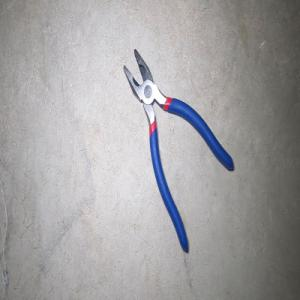Pliers: (123, 48, 234, 252)
